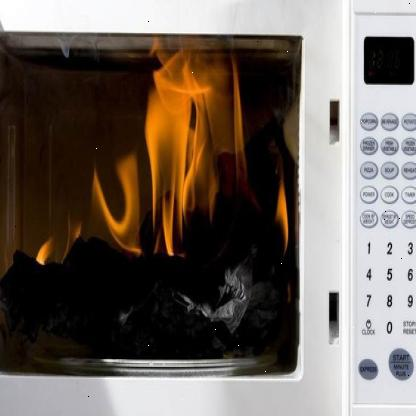fire: (88, 34, 247, 262)
